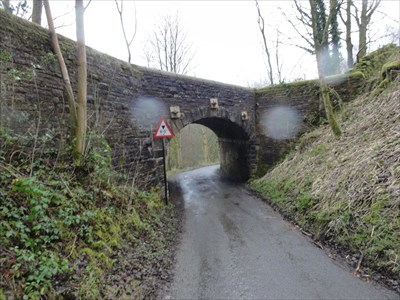bridge: (136, 66, 259, 198)
